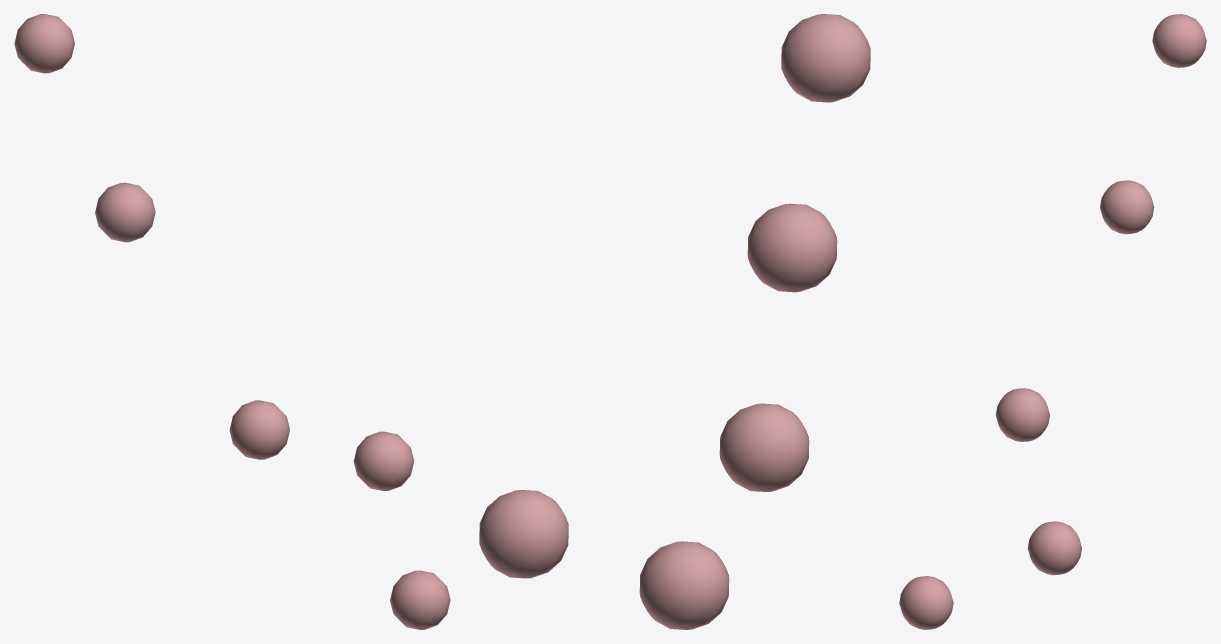
The picture shows the model from 3 angles, left to right: view 1: azimuth 30°, elevation 25°; view 2: azimuth 150°, elevation 25°; view 3: azimuth 270°, elevation 25°; orthographic projection. The views are drawn at different scales.
Visible parts, largest first — view 1: ZA_d151deae16f1becb; view 2: ZA_d151deae16f1becb; view 3: ZA_d151deae16f1becb.
Boxes of the visible parts, x1,y1,x2,y2 form: ZA_d151deae16f1becb: (14,14,450,629); ZA_d151deae16f1becb: (479,14,870,629); ZA_d151deae16f1becb: (899,14,1206,629).
Size of the model in its own units: 0.0159 by 0.0266 by 0.0146.
